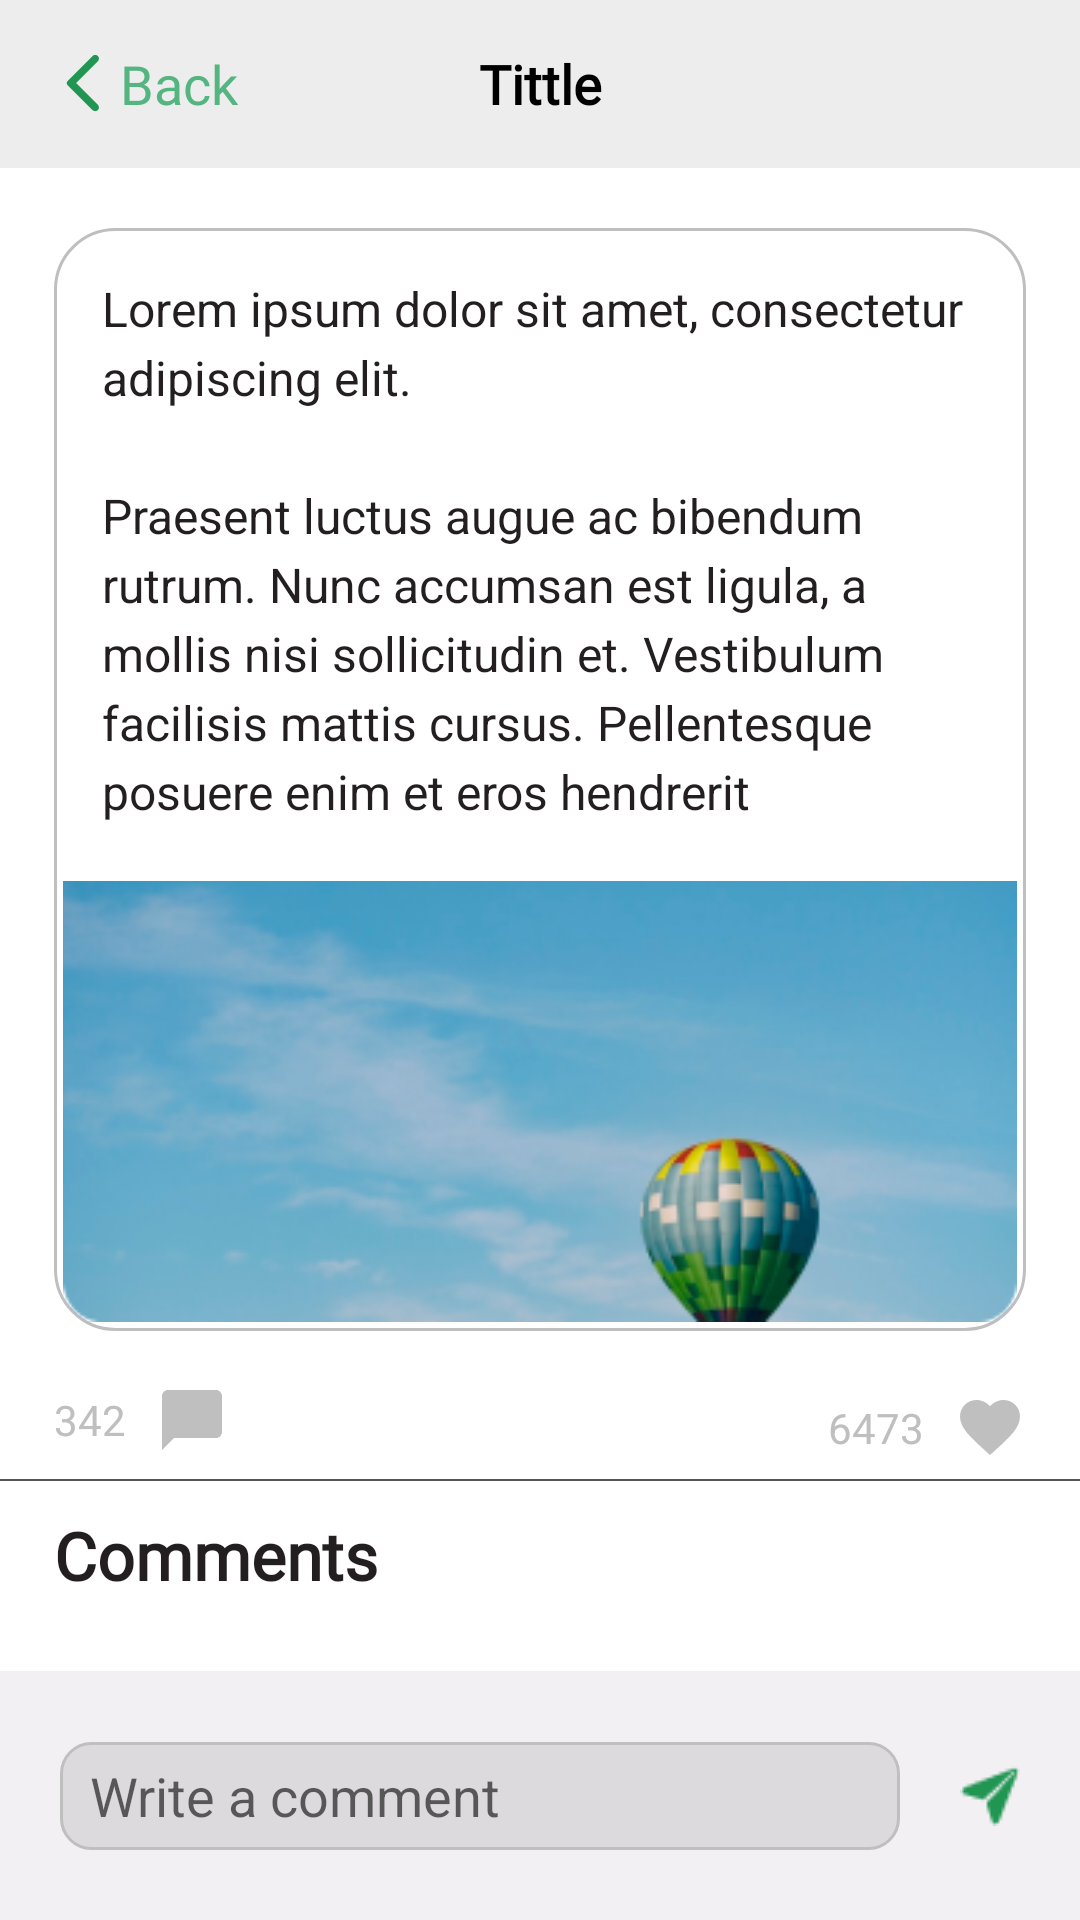

Where to tap for icons on this 1080w x 1920h app screen, as (x=x, y=y):
favorite: (x=990, y=1427)
send: (x=990, y=1797)
